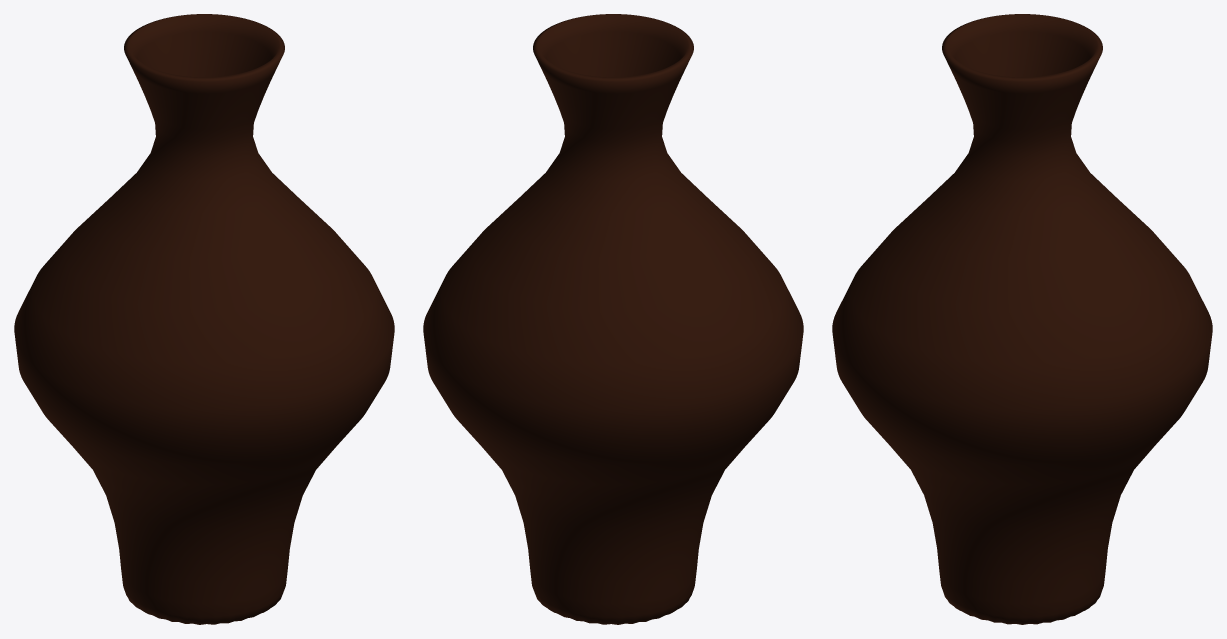
The model's file is Vase.fbx.
3 renders of one model, left to right at view 1: azimuth 30°, elevation 25°; view 2: azimuth 150°, elevation 25°; view 3: azimuth 270°, elevation 25°, orthographic.
Visible parts, largest first — view 1: Cylinder; view 2: Cylinder; view 3: Cylinder.
Part boxes in pixels (x1,y1,x2,y2): Cylinder: (14, 14, 394, 624); Cylinder: (423, 14, 803, 624); Cylinder: (832, 14, 1212, 624).
Size of the model in its own units: 1.2 by 1.92 by 1.2.
